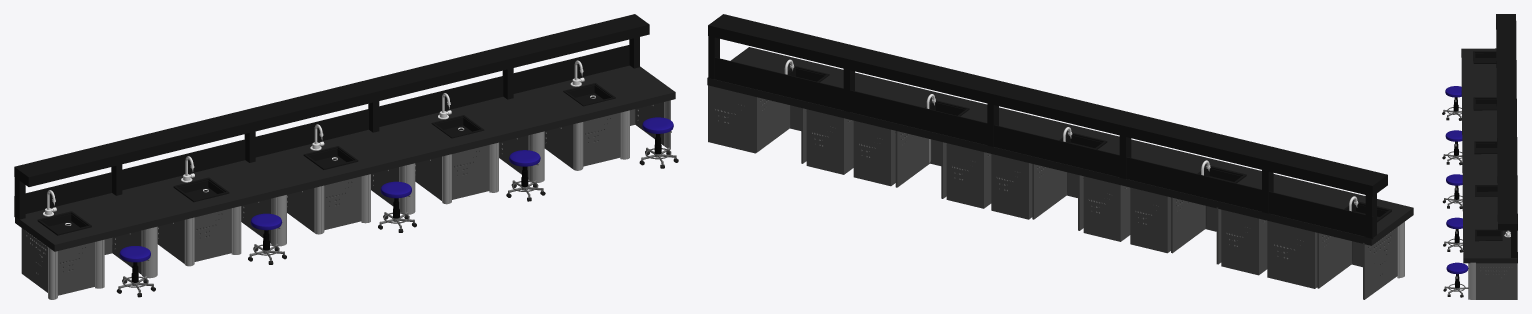
File: L mid bench.fbx
3 views of the same model, side by side, from view 1: azimuth 30°, elevation 25°; view 2: azimuth 150°, elevation 25°; view 3: azimuth 270°, elevation 25° (orthographic). The views are drawn at different scales.
Visible parts, largest first — view 1: Cube.069, Cube.080, Cube.086, Cylinder.335, Cylinder.342, Cylinder.339, Cylinder.343, Cylinder.337, Cube.081, Cube.070, Cube.066, Cube.082 (+30 smaller); view 2: Cube.080, Cube.069, Cube.086, Cylinder.335, Cube.067, Cube.083, Cube.070, Cube.081, Cube.066, Cube.082, Cube.075, Cube.071 (+6 smaller); view 3: Cube.069, Cube.080, Cube.083, Cube.078, Cube.077, Cube.091, Cube.079, Cylinder.332, Cube.074, Cylinder.466, Cube.084, Cylinder.401 (+3 smaller).
Part boxes in pixels (box(x1,y1,x2,y2)): Cube.069: box(15, 65, 675, 251); Cube.080: box(14, 14, 649, 186); Cube.086: box(14, 45, 629, 217); Cylinder.335: box(21, 228, 94, 295); Cylinder.342: box(452, 145, 489, 199); Cylinder.339: box(321, 176, 362, 233); Cylinder.343: box(583, 113, 621, 166); Cylinder.337: box(194, 208, 231, 261); Cube.081: box(544, 124, 573, 169); Cube.070: box(287, 188, 314, 232); Cube.066: box(157, 220, 184, 263); Cube.082: box(415, 156, 441, 200); Cube.080: box(708, 14, 1387, 196); Cube.069: box(707, 47, 1413, 245); Cube.086: box(715, 57, 1373, 239); Cylinder.335: box(1317, 227, 1398, 299); Cube.067: box(1267, 220, 1317, 288); Cube.083: box(708, 85, 756, 153); Cube.070: box(1083, 176, 1130, 241); Cube.081: box(806, 109, 853, 174); Cube.066: box(1221, 209, 1267, 275); Cube.082: box(946, 143, 991, 208); Cube.075: box(853, 120, 895, 186); Cube.071: box(991, 154, 1032, 219); Cube.069: box(1461, 48, 1517, 263); Cube.080: box(1496, 14, 1517, 230); Cube.083: box(1476, 263, 1517, 299); Cube.078: box(1473, 97, 1496, 110); Cube.077: box(1475, 229, 1502, 241); Cube.091: box(1474, 141, 1497, 154); Cube.079: box(1473, 51, 1496, 63); Cylinder.332: box(1468, 262, 1475, 299); Cube.074: box(1475, 185, 1497, 196); Cylinder.466: box(1446, 262, 1468, 274); Cube.084: box(1511, 230, 1517, 257); Cylinder.401: box(1446, 174, 1462, 185).
Size of the model in its own units: 1443 by 244 by 220.
